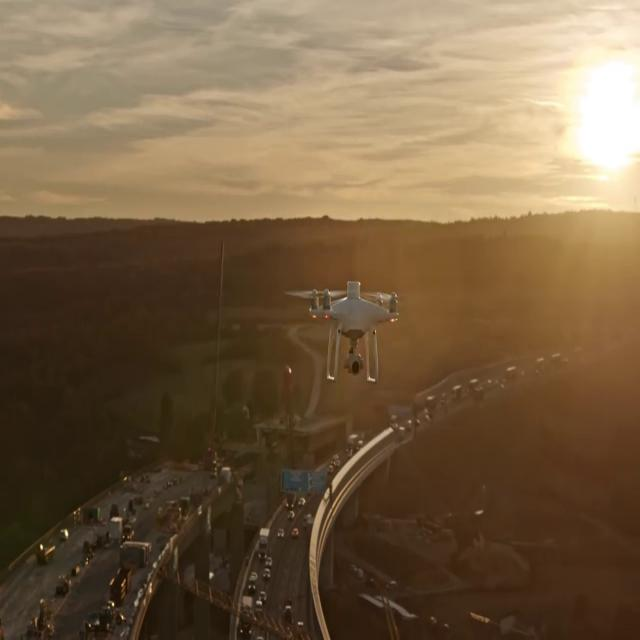drone: (282, 276, 401, 386)
